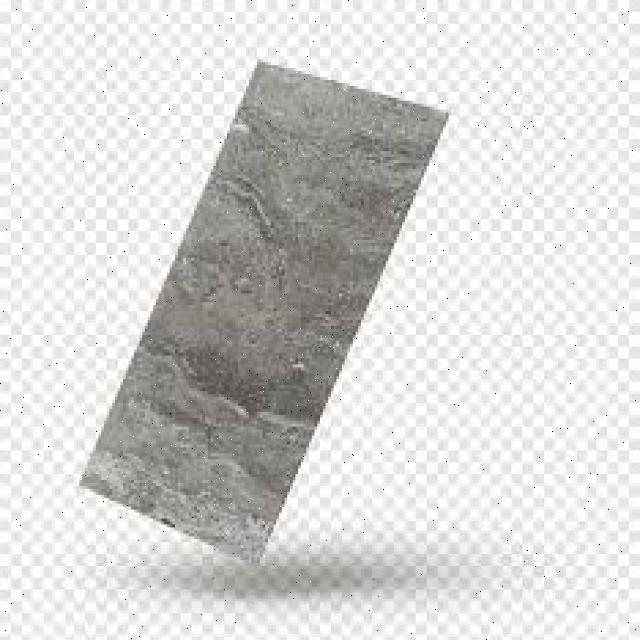Metamorphic: (77, 44, 451, 575)
